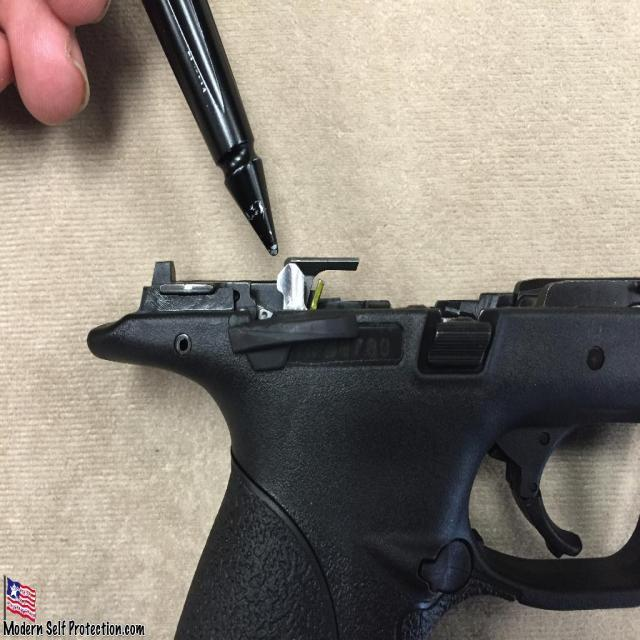Gun: (88, 258, 640, 639)
